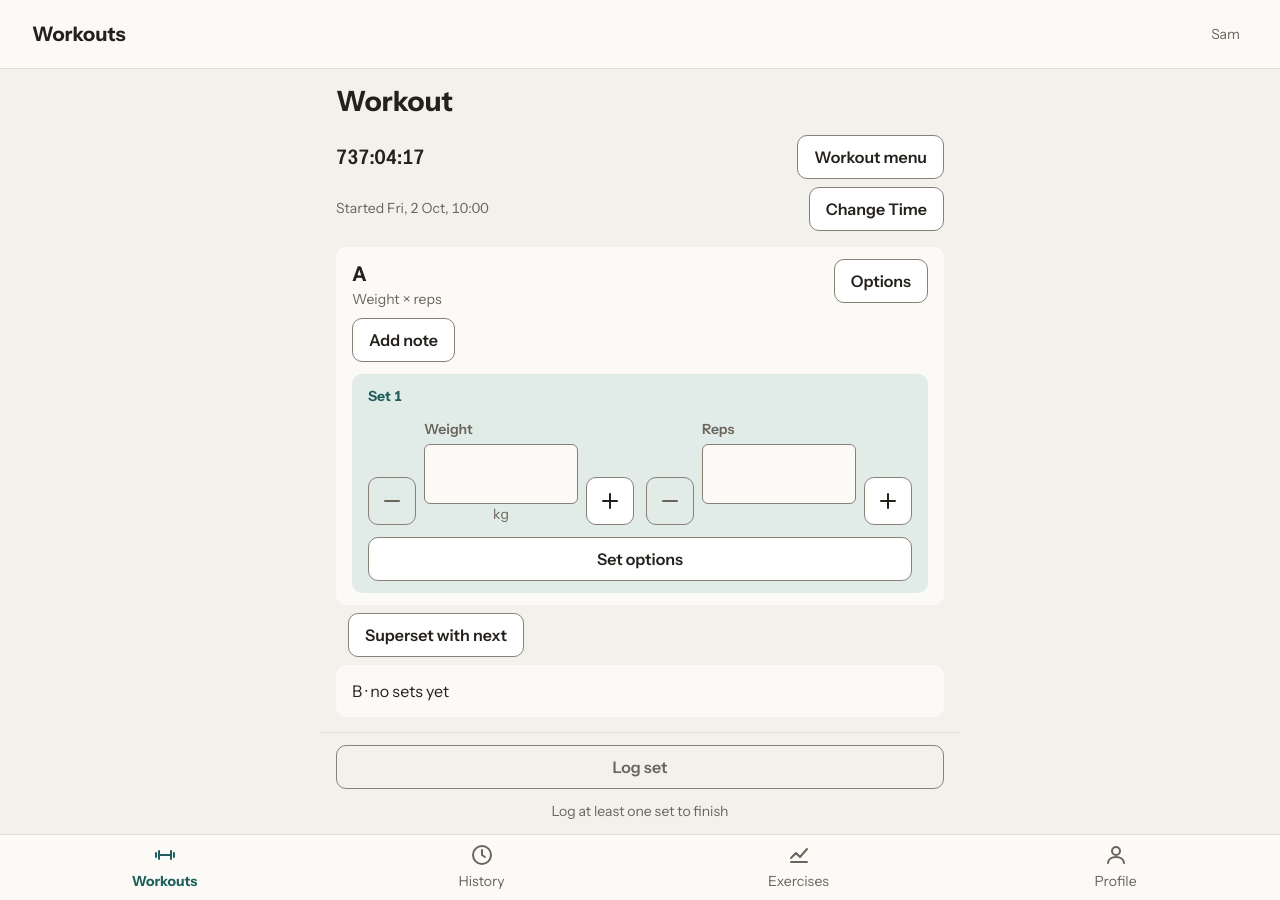
10.1 AC15 — a refused plan is a warning, with no request › {"ok":false,"reason":"no-free-group"} → the banner says so and nothing is sent
The width and height of the screenshot is (1280, 900).
Check: the heading "Workout" is shown, box [336, 84, 453, 118]
Click the button with aria-label "Superset A with B": [436, 635] box [348, 613, 524, 657]
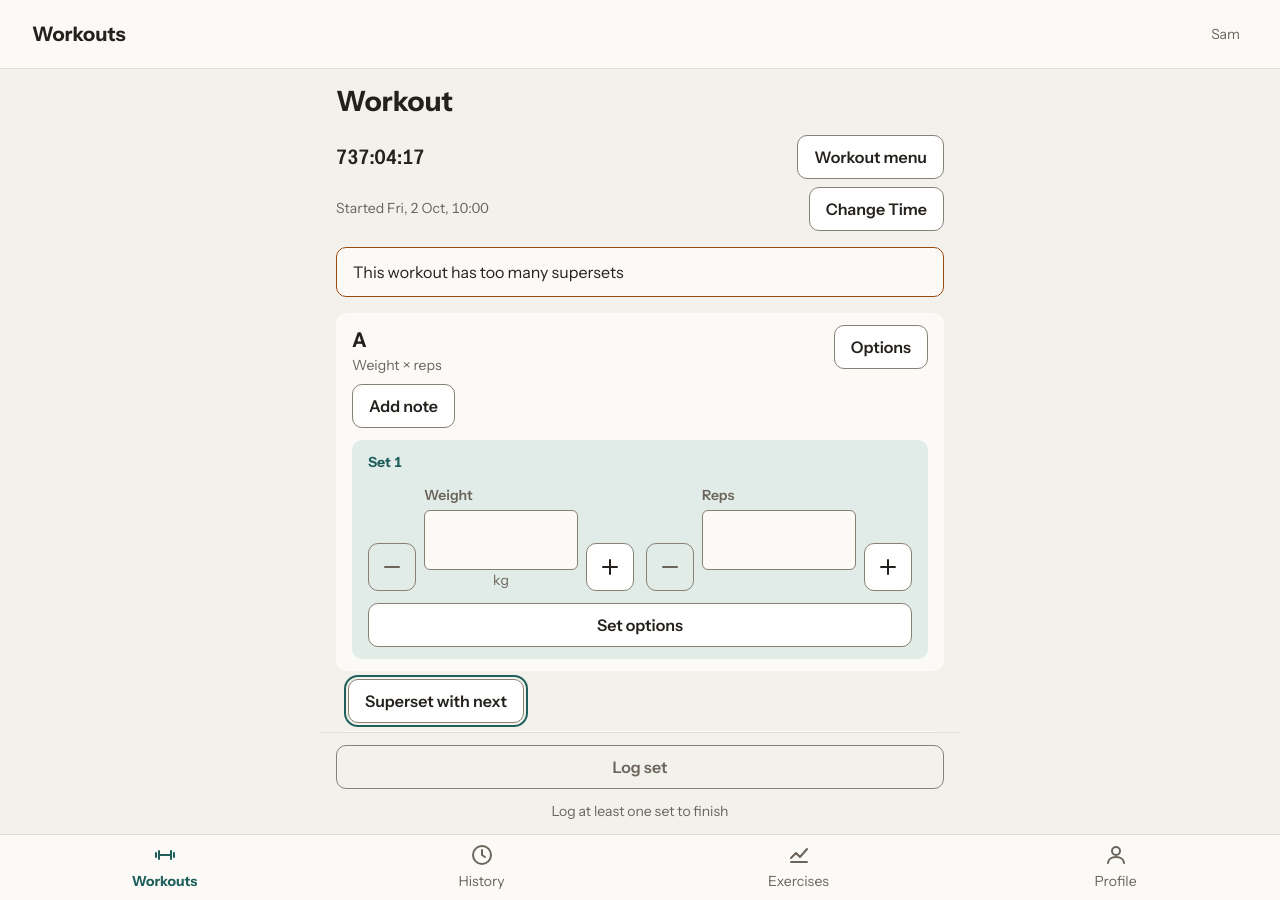
Check: the text "This workout has too many supersets" is shown, box [353, 260, 624, 284]
